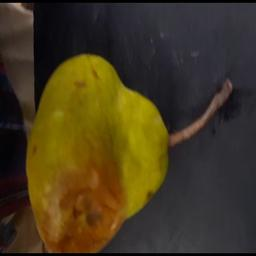Pear Rotten: (19, 45, 228, 256)
